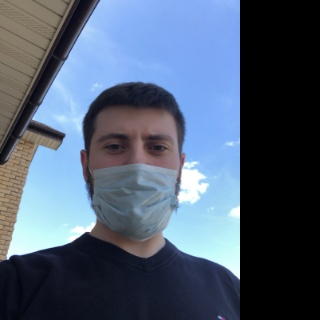with_mask: (92, 124, 180, 241)
